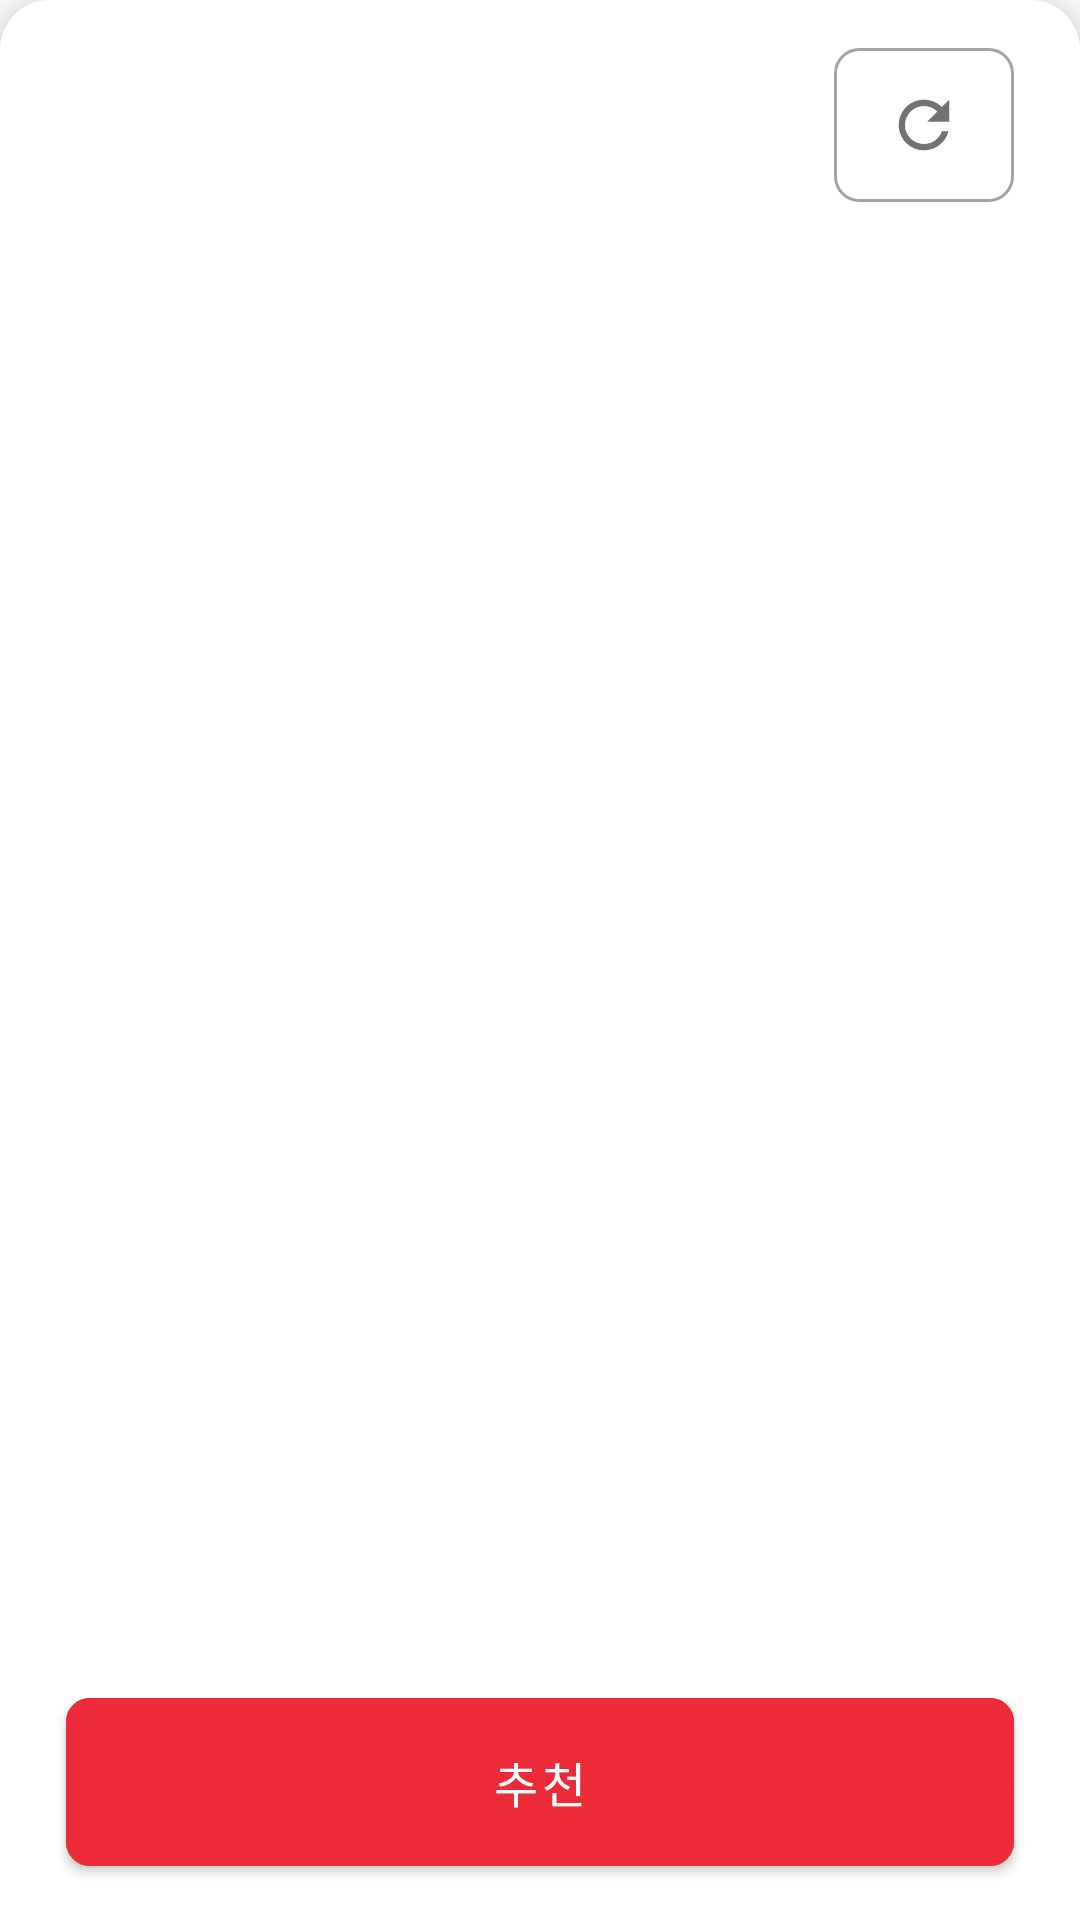

Screen size 1080 x 1920. Icon name, then its center in pixels as [x,y]:
refresh: [924,125]
